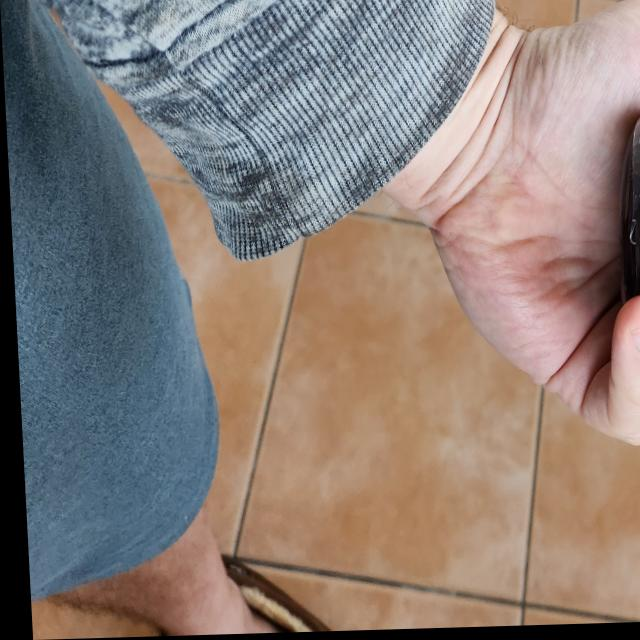hoison sauce: (618, 113, 640, 403)
